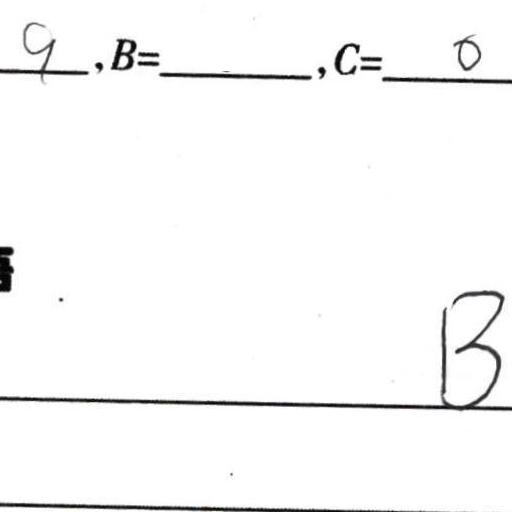ans: (429, 282, 507, 411), (17, 14, 55, 83), (451, 30, 484, 74)
